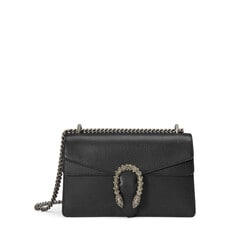Gucci: (52, 111, 201, 228), (94, 149, 159, 209)
